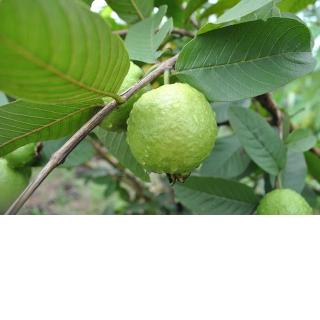oi: (124, 81, 216, 179)
